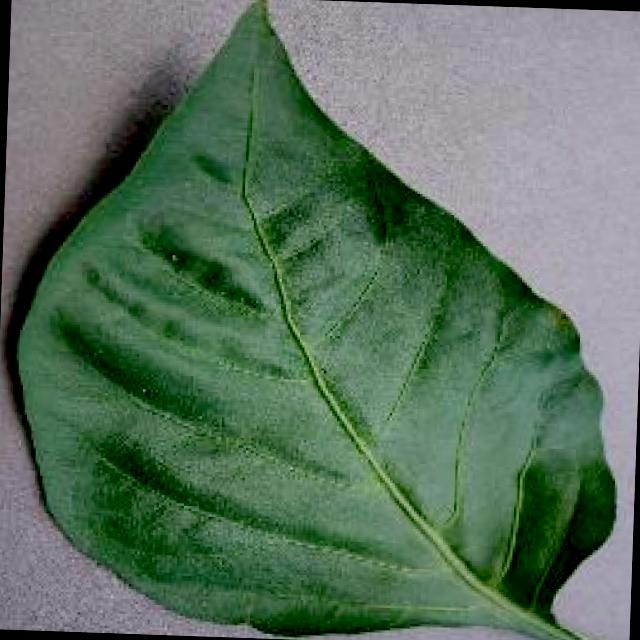Leaf: (79, 174, 508, 604)
